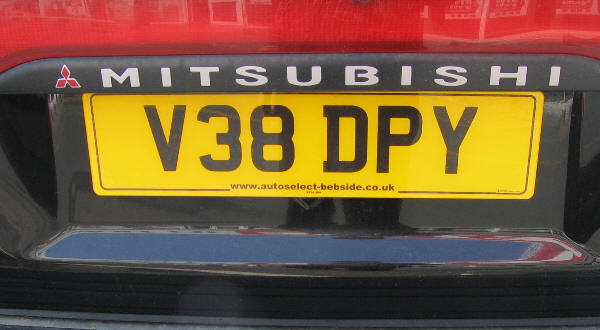license_plate: (81, 88, 544, 201)
